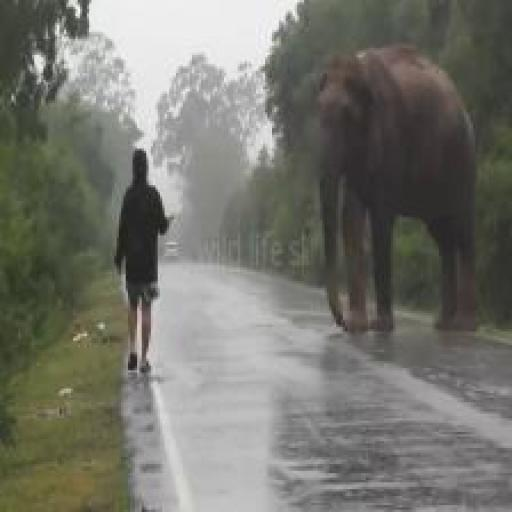Elephant: (313, 32, 494, 353)
